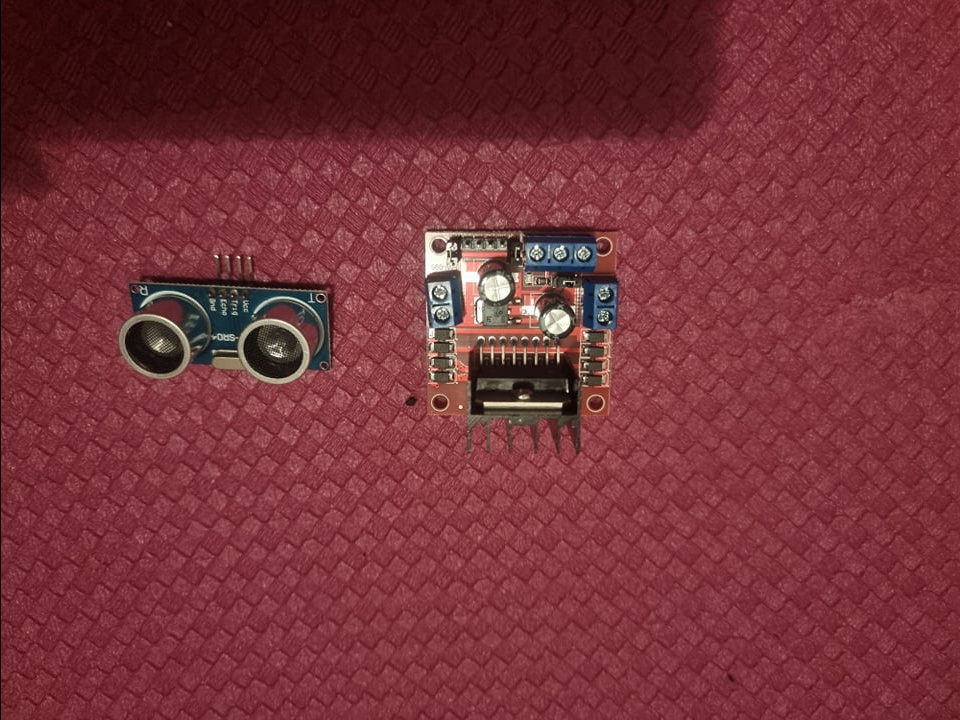MOTOR: (414, 228, 621, 447)
SENSOR: (110, 281, 334, 381)
